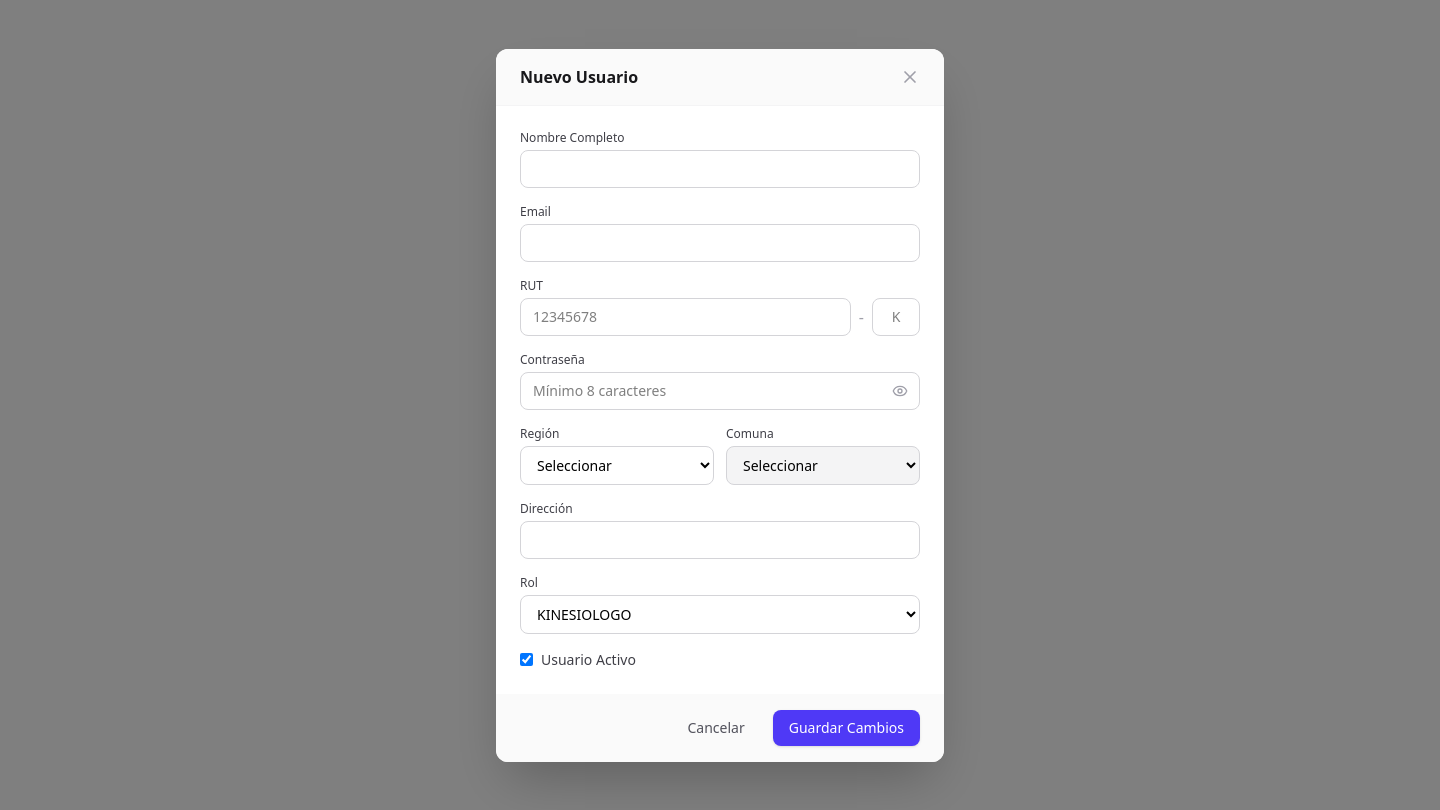
it: UserModal › validates required fields
Click the button "Guardar Cambios": (846, 728) x1=773 y1=710 x2=920 y2=746
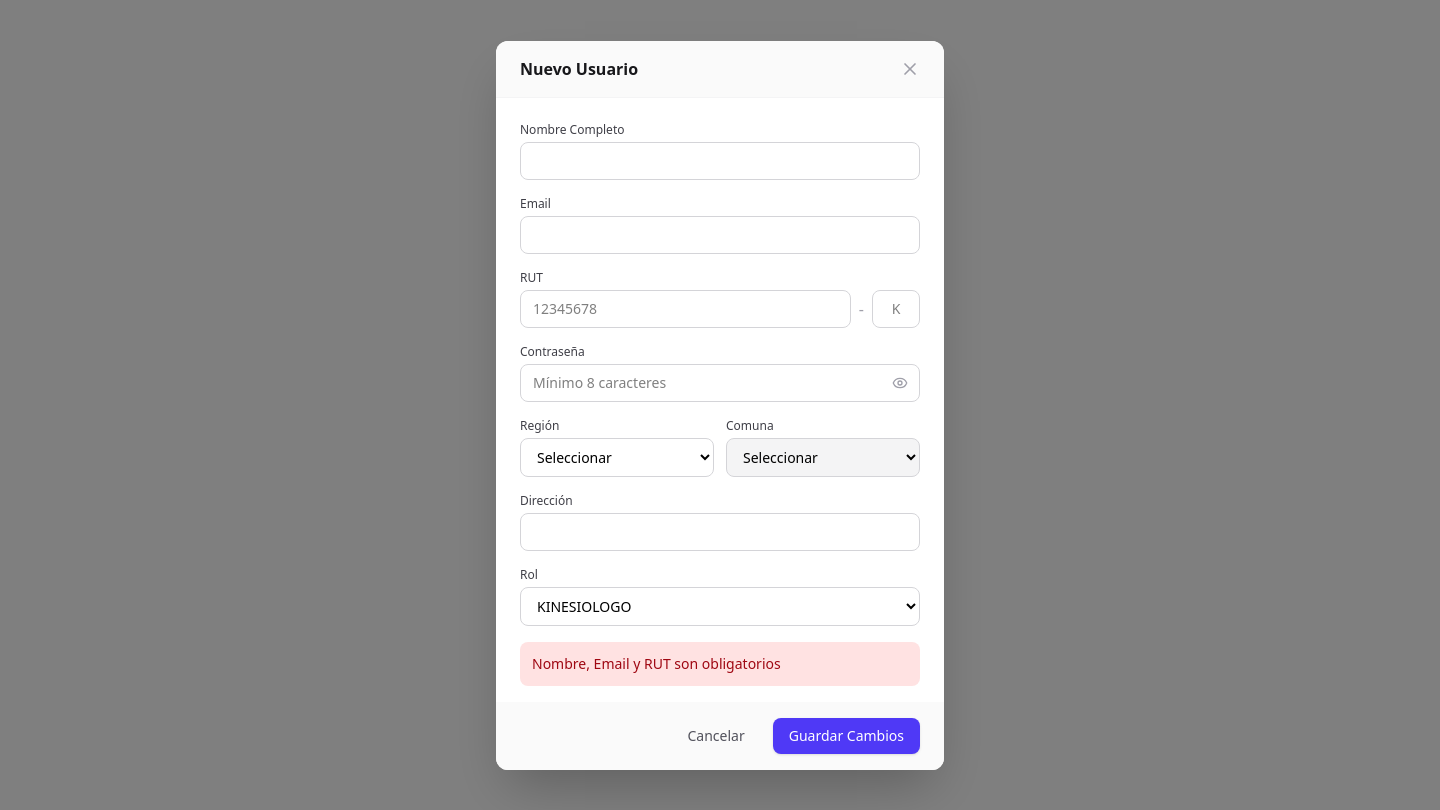
Expected: the text "Nombre, Email y RUT son obligatorios" is shown, x1=520 y1=642 x2=920 y2=686
